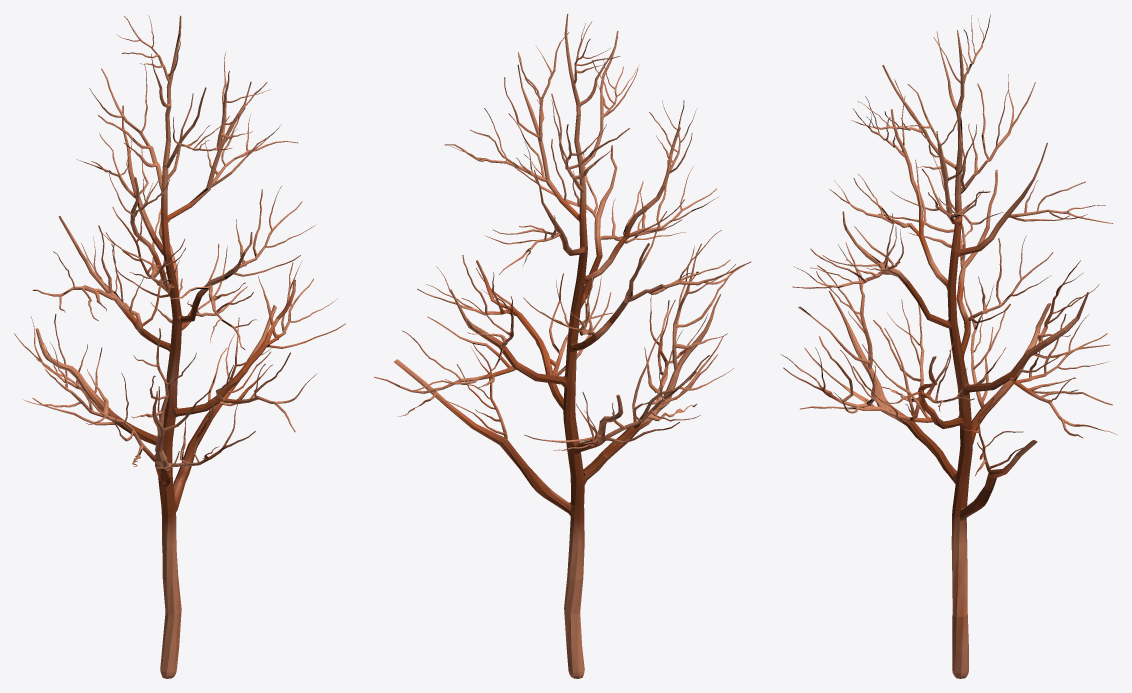
The model's file is Tree trunk.001.fbx.
3 views of the same model, side by side, from view 1: azimuth 30°, elevation 25°; view 2: azimuth 150°, elevation 25°; view 3: azimuth 270°, elevation 25° (orthographic).
Visible parts, largest first — view 1: Tree trunk.001_Baked; view 2: Tree trunk.001_Baked; view 3: Tree trunk.001_Baked.
Part boxes in pixels (x1=…): Tree trunk.001_Baked: x1=14, y1=15, x2=345, y2=678; Tree trunk.001_Baked: x1=374, y1=14, x2=751, y2=678; Tree trunk.001_Baked: x1=780, y1=14, x2=1116, y2=678.
Size of the model in its own units: 36.84 by 74.01 by 34.53.
1 material, 1 textured.
